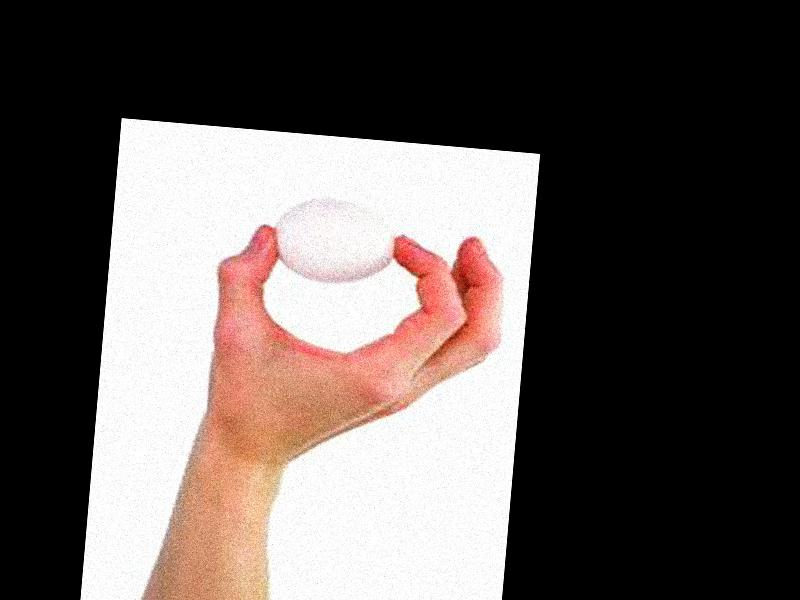Eggs: (271, 194, 399, 288)
